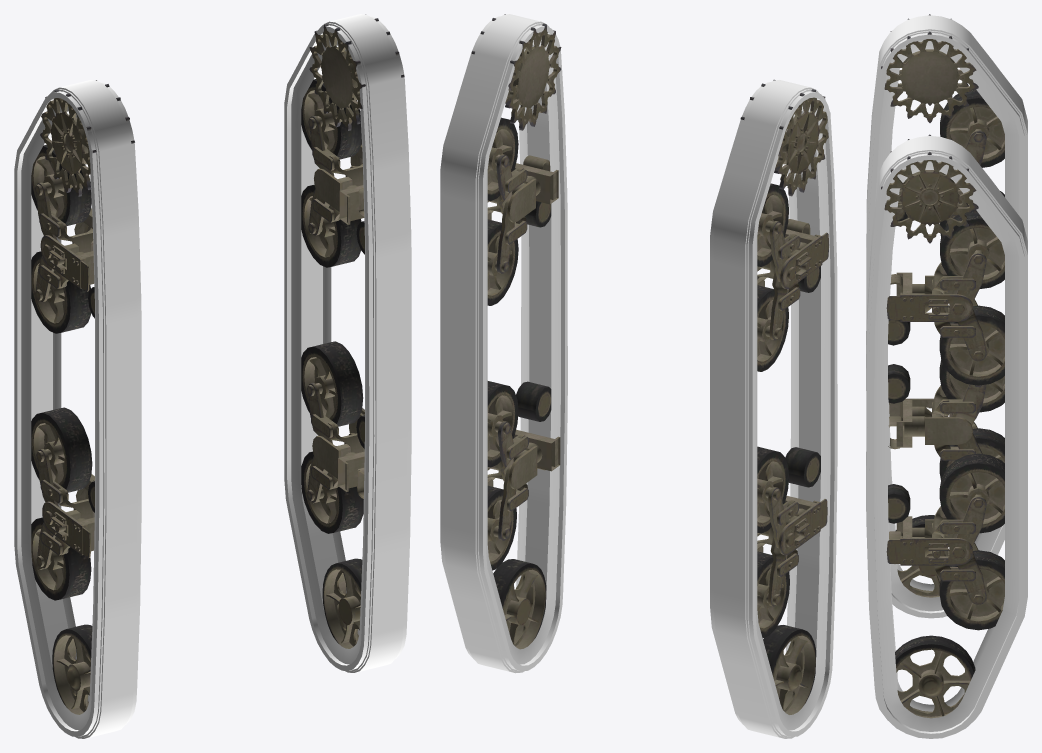
Rendered from Chassis.glb.
3 views of the same model, side by side, from view 1: azimuth 30°, elevation 25°; view 2: azimuth 150°, elevation 25°; view 3: azimuth 270°, elevation 25° (orthographic). The views are drawn at different scales.
Visible parts, largest first — view 1: set_0_group_0, set_1_group_0, set_2_group_0, set_3_group_0; view 2: set_1_group_0, set_0_group_0, set_3_group_0, set_2_group_0; view 3: set_3_group_0, set_0_group_0, set_2_group_0, set_1_group_0.
Boxes of the visible parts, x1=… form: set_0_group_0: x1=284, y1=14, x2=411, y2=672; set_1_group_0: x1=14, y1=80, x2=141, y2=738; set_2_group_0: x1=31, y1=80, x2=134, y2=714; set_3_group_0: x1=301, y1=14, x2=404, y2=648; set_1_group_0: x1=710, y1=80, x2=837, y2=738; set_0_group_0: x1=440, y1=14, x2=567, y2=673; set_3_group_0: x1=471, y1=14, x2=561, y2=649; set_2_group_0: x1=740, y1=79, x2=828, y2=714; set_3_group_0: x1=881, y1=134, x2=1004, y2=718; set_0_group_0: x1=866, y1=136, x2=1027, y2=738; set_2_group_0: x1=881, y1=14, x2=1004, y2=597; set_1_group_0: x1=866, y1=15, x2=1027, y2=618.
Bounding box in the file's own units: 2.28 × 4.29 × 1.07.
4 materials, 2 textured.
